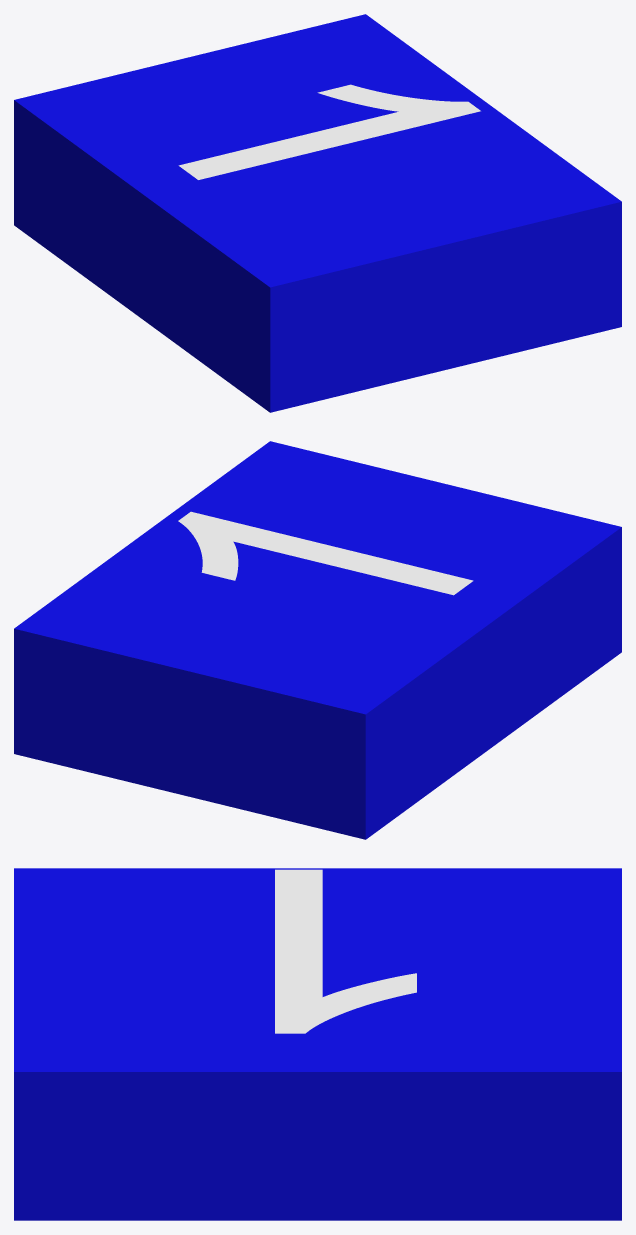
File: number1.FBX
The picture shows the model from 3 angles, top to bottom: view 1: azimuth 30°, elevation 25°; view 2: azimuth 150°, elevation 25°; view 3: azimuth 270°, elevation 25°; orthographic projection. The views are drawn at different scales.
Visible parts, largest first — view 1: Text001; view 2: Text001; view 3: Text001.
Part boxes in pixels (x1,y1,x2,y2): Text001: (14, 14, 621, 412); Text001: (14, 441, 621, 839); Text001: (14, 868, 621, 1220).
Size of the model in its own units: 18.63 by 7.23 by 23.5.
